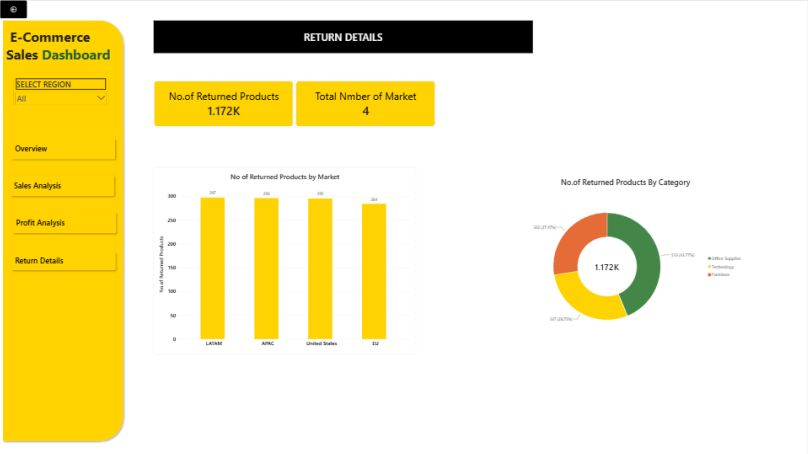

This screenshot's page, from the dashboard's own definition file:
{"tool":"powerbi","page":{"name":"Return","canvas":[2560,1440],"ordinal":3},"visuals":[{"type":"cardVisual","fields":{"Data":["Returns.No.of Returned Product","Returns.Total Nmber of Market"]},"box":[490,253.3,892.5,147.5],"z":4000},{"type":"columnChart","title":"No of Returned Products by Market","fields":{"Category":["Returns.Market"],"Y":["Returns.No.of Returned Products"]},"box":[490,526.7,830,592.5],"z":4003},{"type":"donutChart","title":"No.of Returned Products By Category","fields":{"Category":["Orders.Category"],"Y":["Returns.No.of Returned Products"]},"box":[1590,543.3,785,550],"z":4004},{"type":"shape","box":[3.3,53.3,400,1350],"z":4005},{"type":"textbox","box":[23.3,83.3,350,163.3],"z":4006},{"type":"slicer","fields":{"Values":["Orders.Region"]},"box":[46.7,246.7,300,81.1],"z":4007},{"type":"actionButton","box":[3.3,0,86.7,56.7],"z":4011},{"type":"actionButton","box":[30,786.7,348.6,75.7],"z":4012},{"type":"actionButton","box":[26.7,543.3,347.5,85],"z":4013},{"type":"actionButton","box":[33.3,660,347.5,85],"z":4014},{"type":"actionButton","box":[30,426.7,347.5,85],"z":4015},{"type":"shape","box":[490,63.3,1200,103.3],"z":4016}]}

Visuals, with their boxes on the page's 2560x1440 design canvas (x1, y1, x2, y2). These are canvas units, not pixel positions in the 808x454 screenshot, which may show the page scaled, cropped or inside an application window:
cardVisual - Returns.No.of Returned Product x Returns.Total Nmber of Market: x1=490, y1=253, x2=1382, y2=401
"No of Returned Products by Market" columnChart: x1=490, y1=527, x2=1320, y2=1119
"No.of Returned Products By Category" donutChart: x1=1590, y1=543, x2=2375, y2=1093
shape: x1=3, y1=53, x2=403, y2=1403
textbox: x1=23, y1=83, x2=373, y2=247
slicer - Orders.Region: x1=47, y1=247, x2=347, y2=328
actionButton: x1=3, y1=0, x2=90, y2=57
actionButton: x1=30, y1=787, x2=379, y2=862
actionButton: x1=27, y1=543, x2=374, y2=628
actionButton: x1=33, y1=660, x2=381, y2=745
actionButton: x1=30, y1=427, x2=378, y2=512
shape: x1=490, y1=63, x2=1690, y2=167
